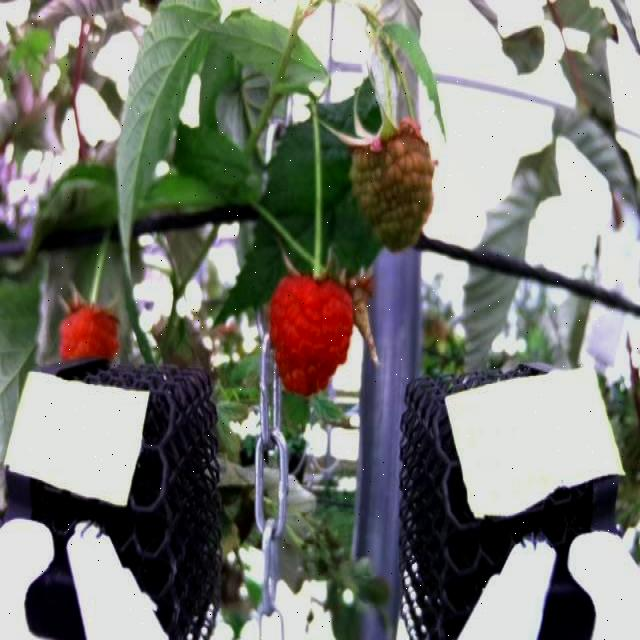Riped berries: (272, 264, 356, 394), (51, 290, 129, 357)
